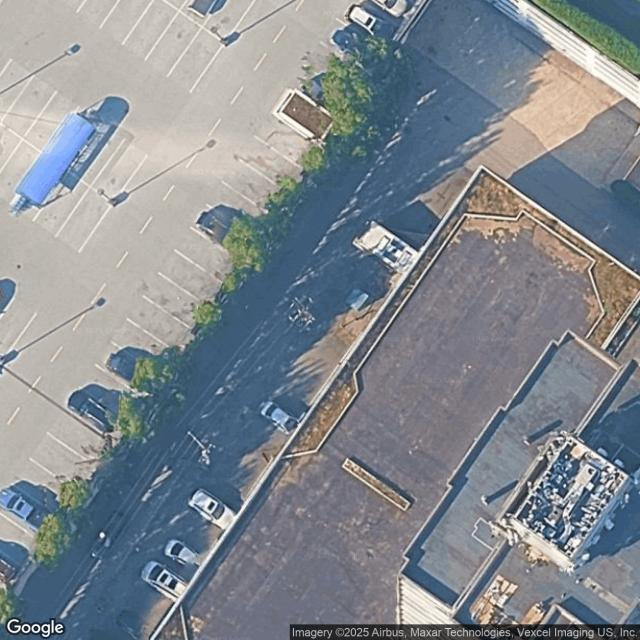car: (2, 483, 51, 535), (194, 208, 249, 254), (68, 391, 124, 435), (344, 4, 394, 43), (107, 354, 163, 381)
objects: (6, 106, 104, 223), (274, 88, 339, 144), (187, 0, 218, 20)
stall: (0, 481, 65, 544), (174, 226, 242, 285), (158, 249, 226, 308), (63, 386, 131, 445), (29, 434, 97, 493), (253, 112, 321, 171), (237, 134, 305, 193), (307, 37, 375, 96), (128, 296, 195, 355), (143, 272, 210, 331), (96, 341, 163, 400), (112, 318, 179, 377), (48, 409, 115, 468), (222, 158, 289, 217), (290, 60, 357, 119), (79, 364, 147, 422), (190, 204, 258, 262), (13, 458, 81, 516), (207, 181, 274, 239), (323, 15, 390, 73), (145, 11, 202, 77), (168, 27, 225, 93), (1, 73, 58, 139), (34, 169, 91, 235), (69, 121, 126, 187), (56, 187, 113, 253), (91, 137, 148, 203), (23, 89, 75, 153), (123, 0, 179, 59), (340, 2, 404, 51), (0, 512, 46, 570), (0, 139, 41, 201), (1, 299, 37, 363), (101, 0, 154, 43), (0, 58, 34, 122), (203, 0, 254, 42), (0, 123, 24, 174)
